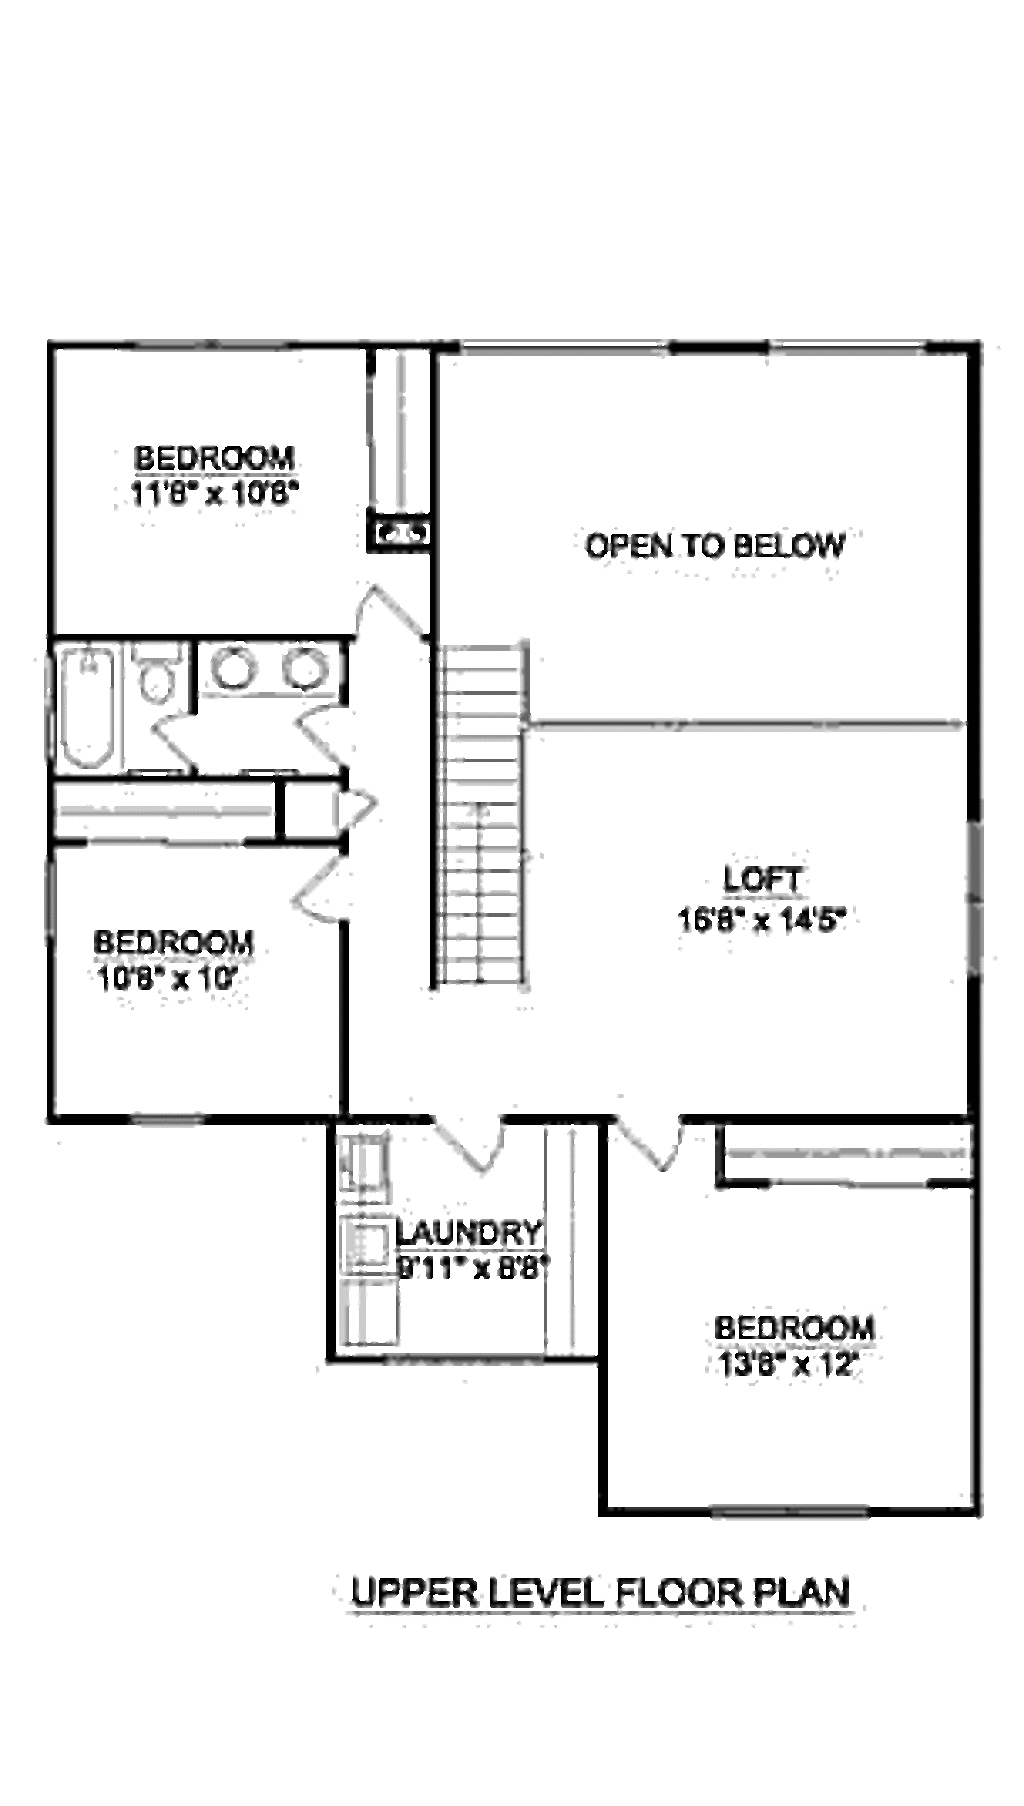door: (267, 843, 355, 944), (627, 1100, 713, 1177), (444, 1105, 527, 1183), (341, 585, 435, 647), (302, 688, 360, 776), (152, 708, 216, 767)
large_sink: (138, 639, 188, 708)
small_sink: (205, 636, 350, 702)
stairs: (426, 616, 527, 1020)
tub: (60, 633, 131, 786)
window: (455, 330, 677, 368), (780, 332, 912, 372)
